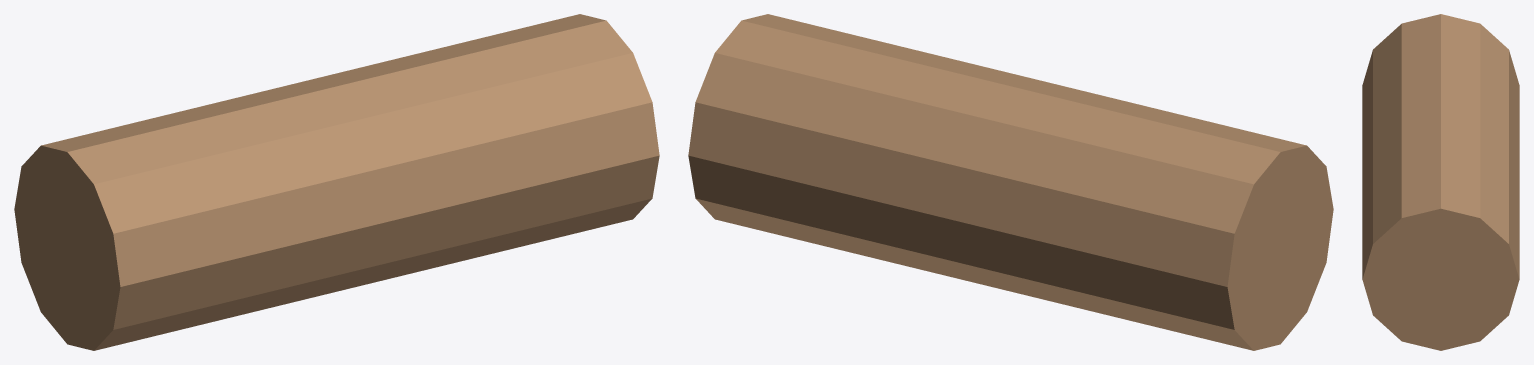
File: pickup_log.glb
3 renders of one model, left to right at view 1: azimuth 30°, elevation 25°; view 2: azimuth 150°, elevation 25°; view 3: azimuth 270°, elevation 25°, orthographic. The views are drawn at different scales.
Visible parts, largest first — view 1: Split log | bark.001; view 2: Split log | bark.001; view 3: Split log | bark.001.
Boxes of the visible parts, x1=… form: Split log | bark.001: x1=14, y1=14, x2=659, y2=350; Split log | bark.001: x1=688, y1=14, x2=1333, y2=350; Split log | bark.001: x1=1362, y1=14, x2=1519, y2=350.
Bounding box in the file's own units: 0.88 × 0.3 × 0.3.
